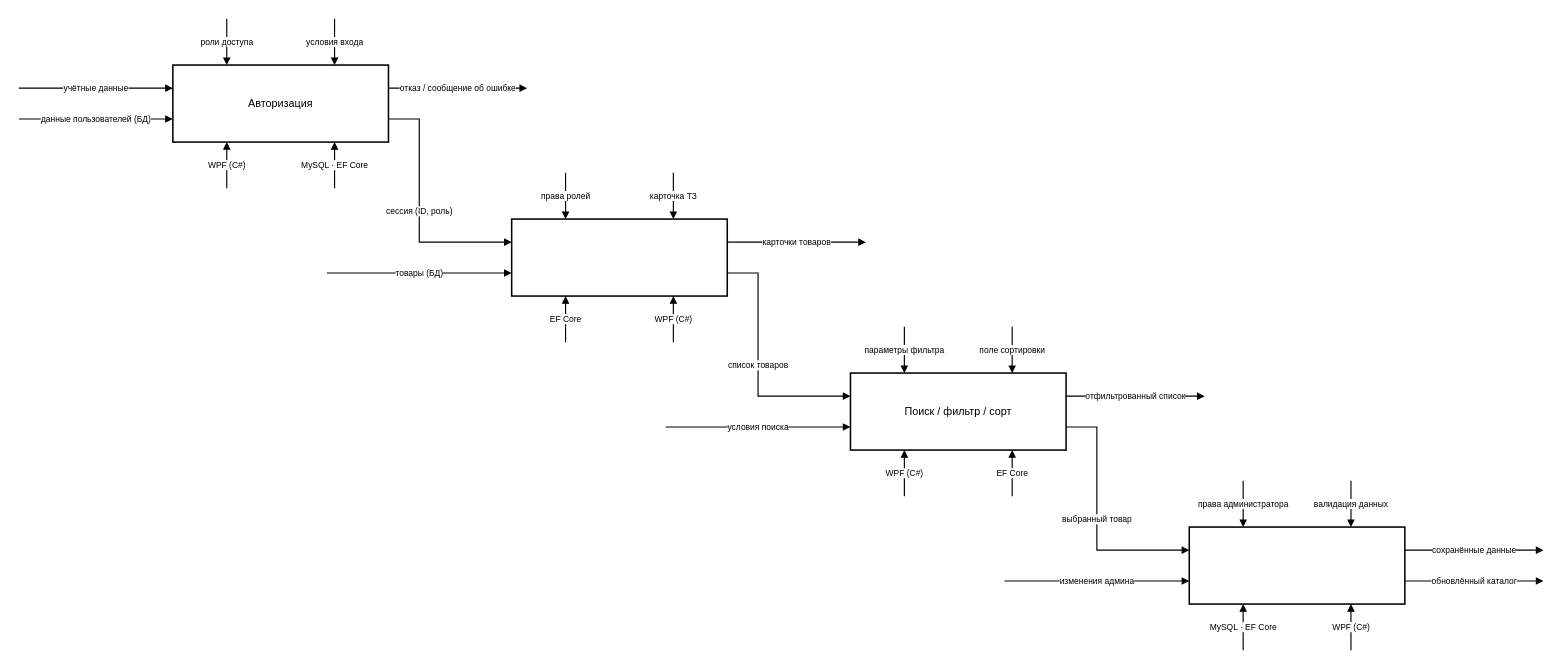
Some shapes in this 1564 by 671 pixel diagram are drawn without their labels. Here are the shapes that lost their labels. From the top down, the centre of each, then its label:
At (x=619, y=257): "Каталог".
At (x=1296, y=565): "CRUD товаров".
